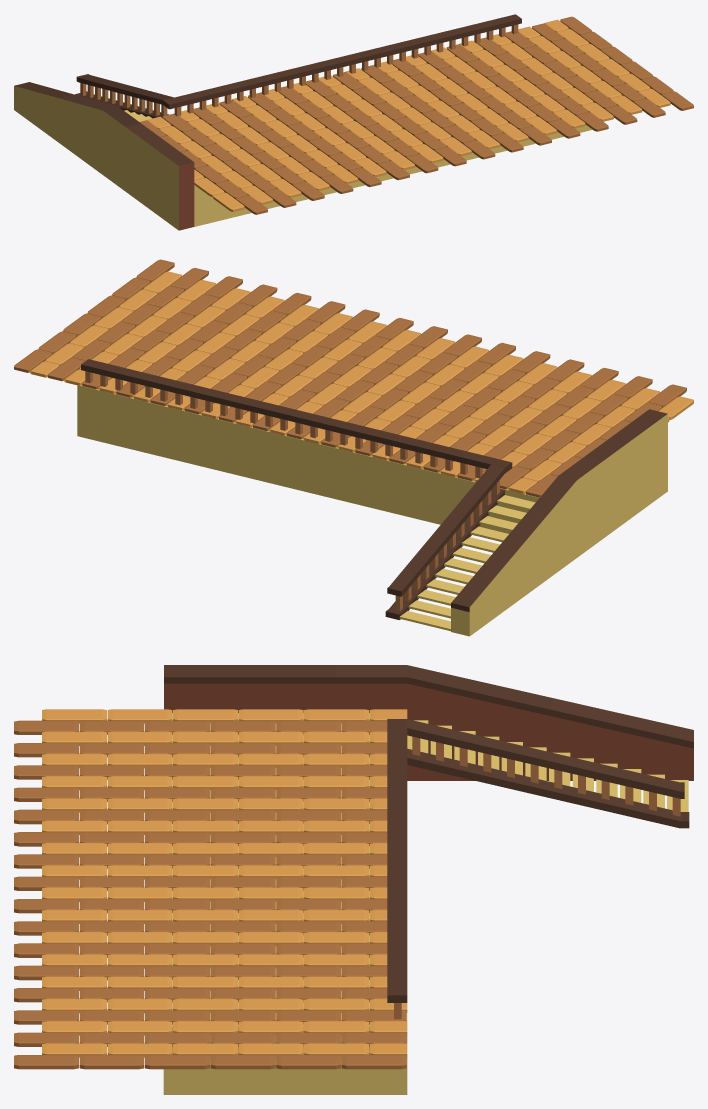
Rendered from StairCaseLeft.glb.
3 views of the same model, one above another, from view 1: azimuth 30°, elevation 25°; view 2: azimuth 150°, elevation 25°; view 3: azimuth 270°, elevation 25° (orthographic). The views are drawn at different scales.
Parts seen in each view (by area): view 1: Cube.108; view 2: Cube.108; view 3: Cube.108.
Boxes of the visible parts, box(x1,y1,x2,y2) form: Cube.108: box(14, 14, 693, 230); Cube.108: box(14, 259, 693, 636); Cube.108: box(14, 665, 693, 1094).
Bounding box in the file's own units: 60.8 × 8.26 × 47.44.
